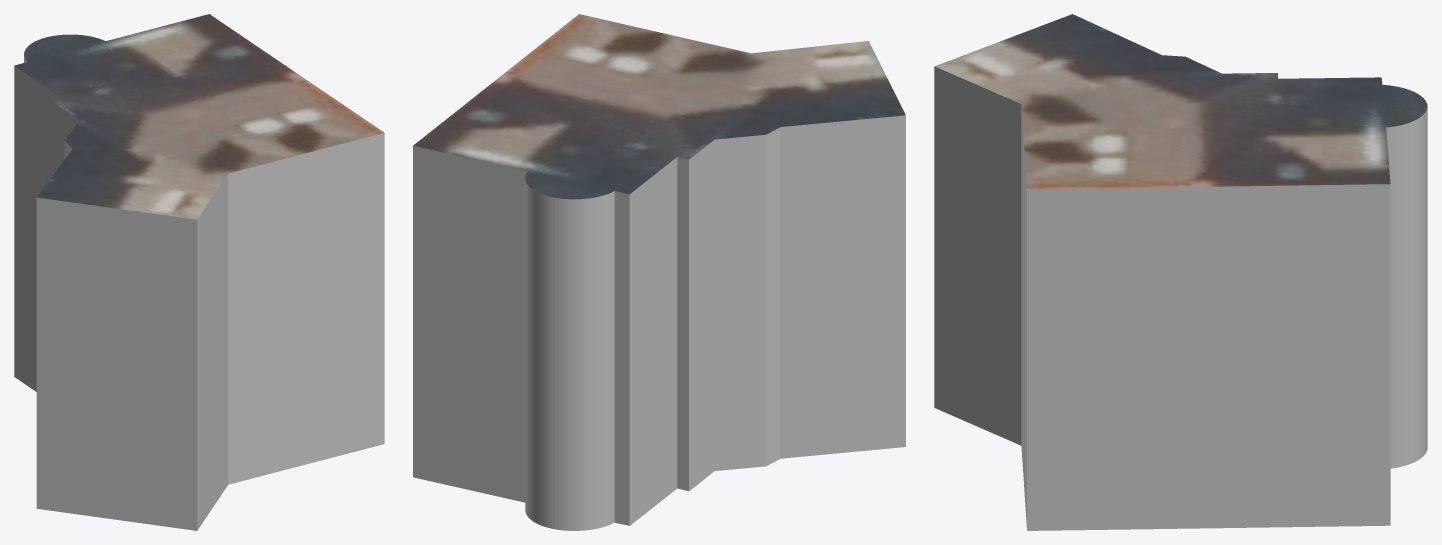
The model's file is DEBW_0010007Txc3.gltf.
3 renders of one model, left to right at view 1: azimuth 30°, elevation 25°; view 2: azimuth 150°, elevation 25°; view 3: azimuth 270°, elevation 25°, orthographic. The views are drawn at different scales.
Parts seen in each view (by area): view 1: Z_UP; view 2: Z_UP; view 3: Z_UP.
Part boxes in pixels (x1=…): Z_UP: x1=14, y1=14, x2=384, y2=530; Z_UP: x1=413, y1=14, x2=905, y2=530; Z_UP: x1=934, y1=14, x2=1427, y2=530.
Bounding box in the file's own units: 15.38 × 13.97 × 18.27.
2 materials, 1 textured.
